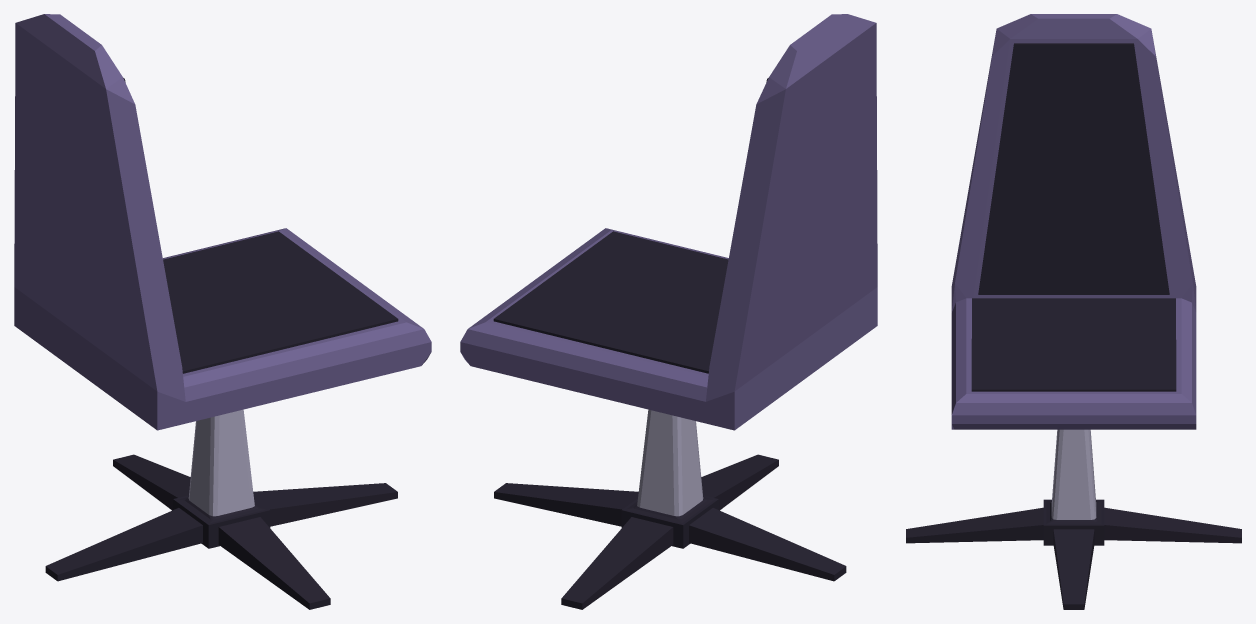
File: Chair.fbx
The picture shows the model from 3 angles, left to right: view 1: azimuth 30°, elevation 25°; view 2: azimuth 150°, elevation 25°; view 3: azimuth 270°, elevation 25°; orthographic projection. The views are drawn at different scales.
Visible parts, largest first — view 1: Chair; view 2: Chair; view 3: Chair.
Part boxes in pixels (x1,y1,x2,y2): Chair: [14, 14, 431, 609]; Chair: [460, 14, 877, 609]; Chair: [906, 14, 1241, 609].
Bounding box in the file's own units: 0.9282 × 1.41 × 0.9282.
